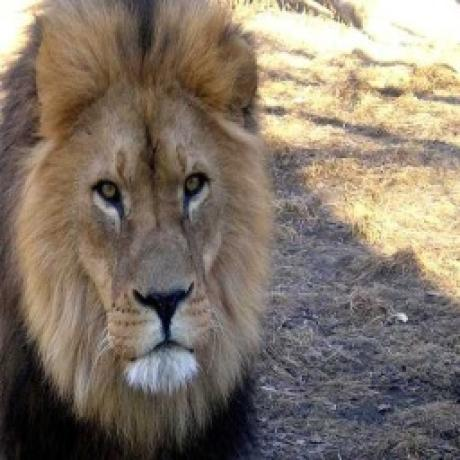Lion: (0, 0, 273, 460)
